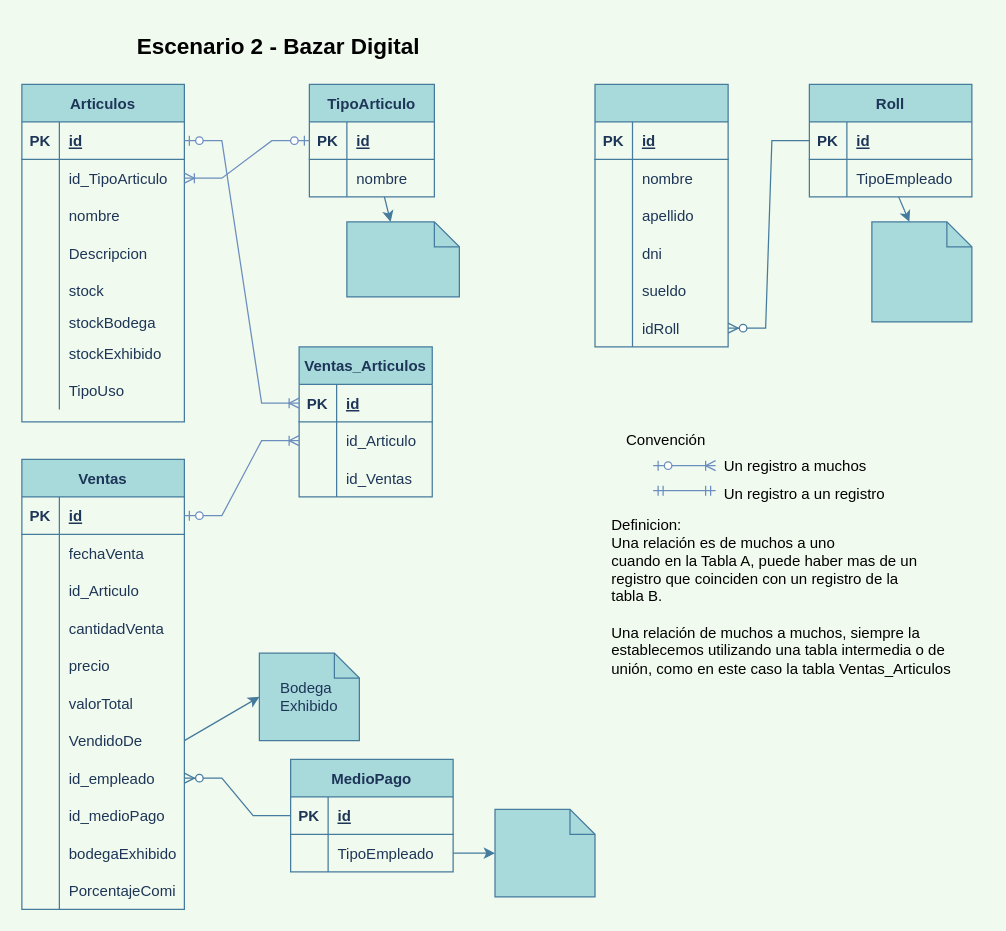
Image size: 1006x931. Some labels were removed from this diagram. Each missing label, with the box of its shape:
comun coordinador mostrador repositor: (871, 221, 972, 322)
Empleados: (594, 83, 728, 347)
Tarjeta Transferencia Efectivo: (494, 808, 595, 897)
vajilla juguetes jardin: (346, 221, 459, 297)
